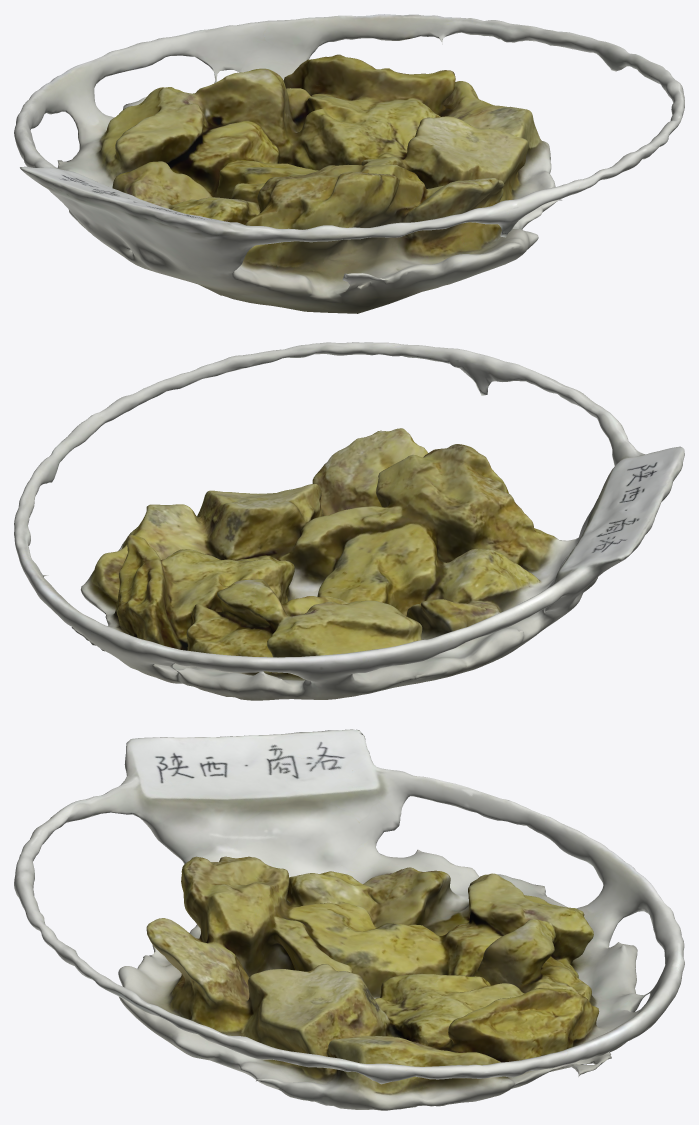
3 renders of one model, top to bottom at view 1: azimuth 30°, elevation 25°; view 2: azimuth 150°, elevation 25°; view 3: azimuth 270°, elevation 25°, orthographic. The views are drawn at different scales.
Size of the model in its own units: 0.8462 by 0.2563 by 0.801.
1 material, 1 textured.
